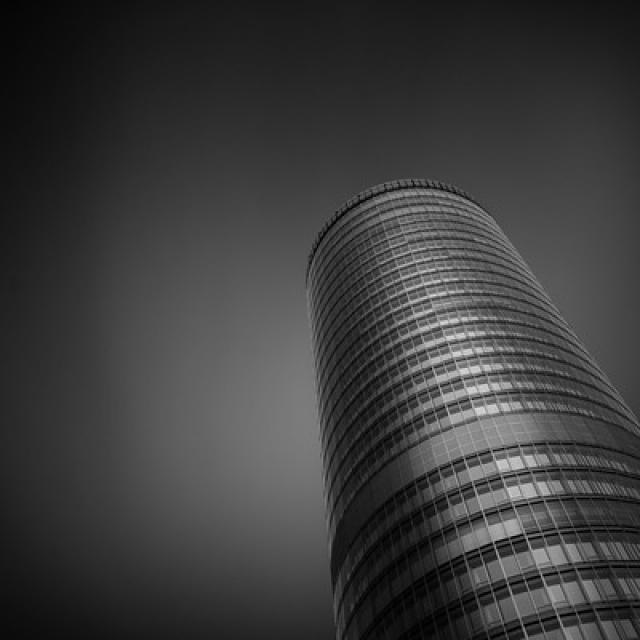Normal_building: (297, 169, 640, 640)
